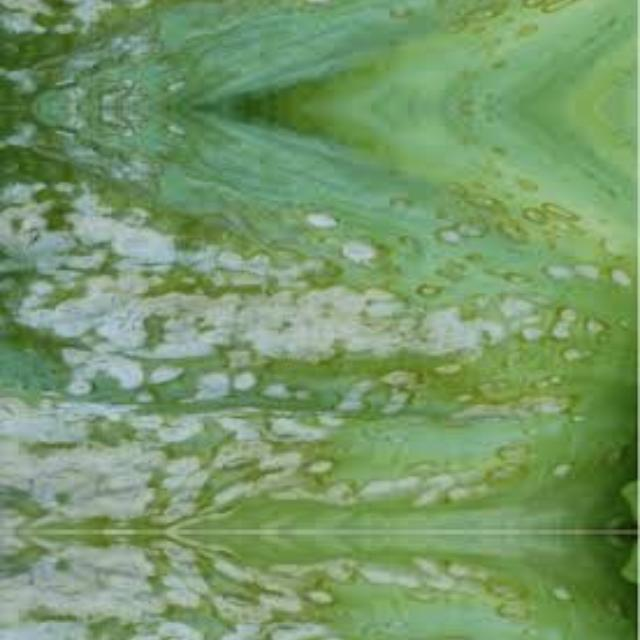Downy_mildew: (3, 110, 640, 531), (3, 531, 640, 640), (3, 0, 640, 103)
